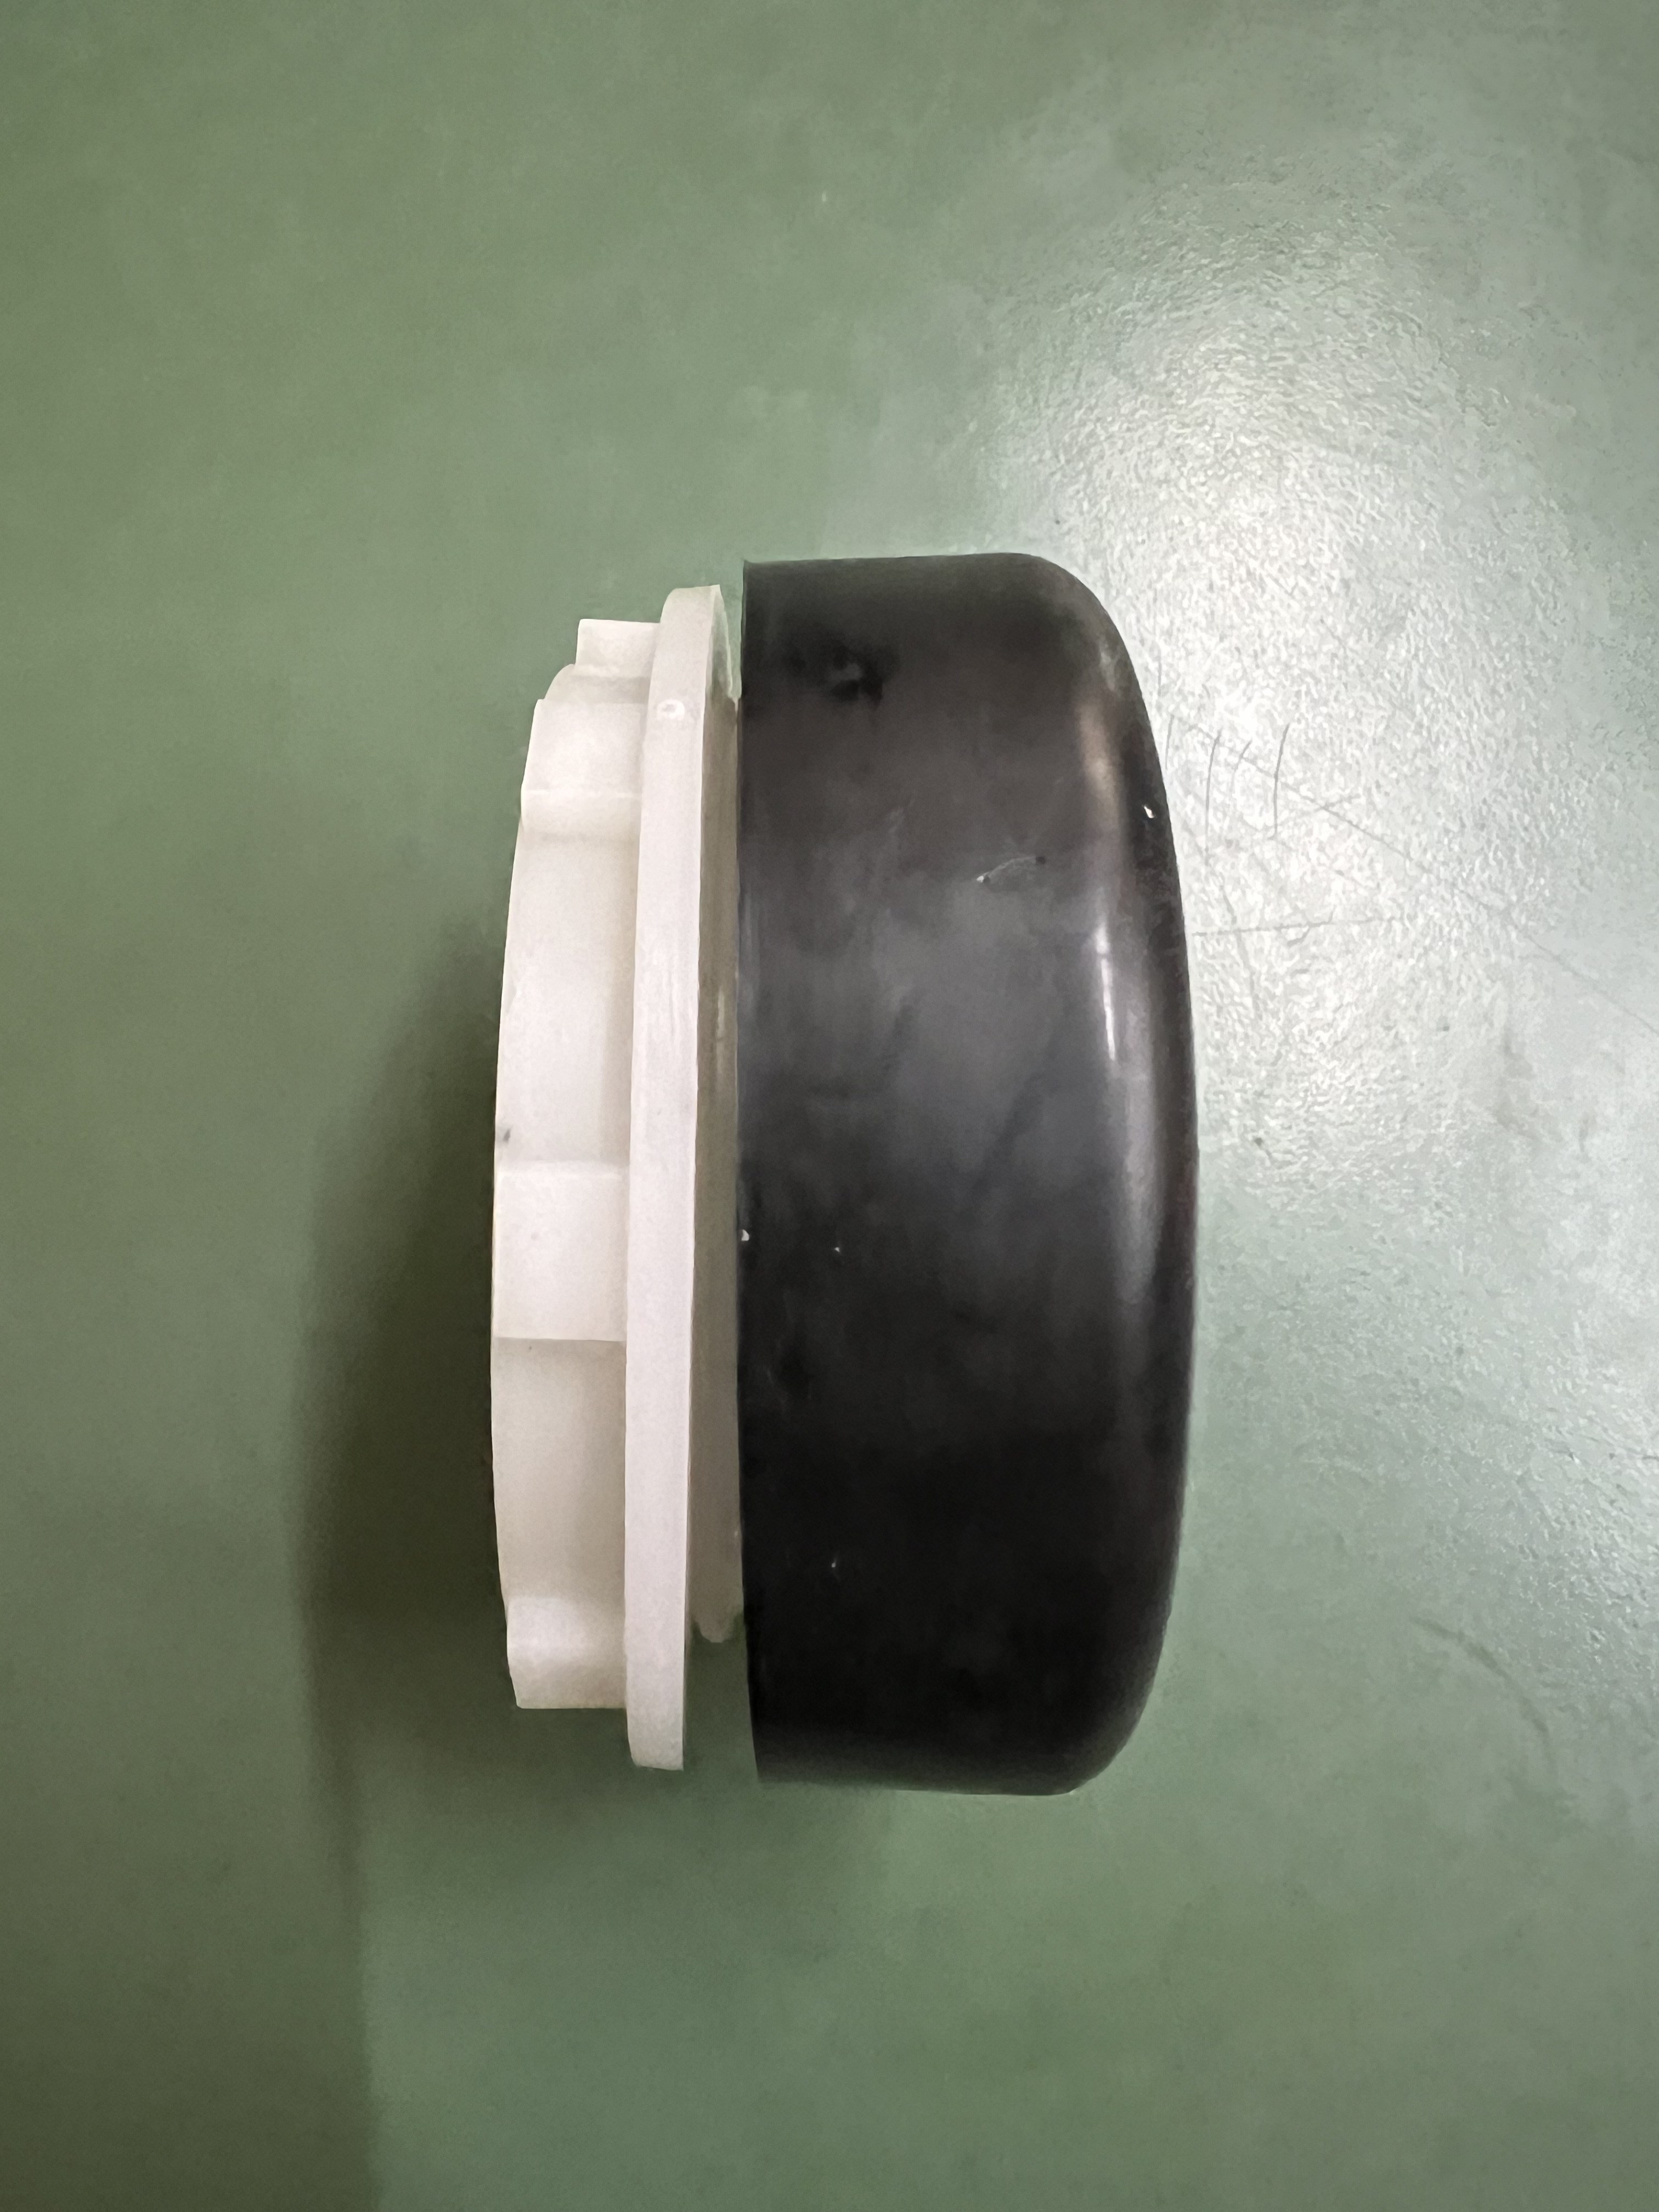lever: (490, 538, 1216, 1815)
